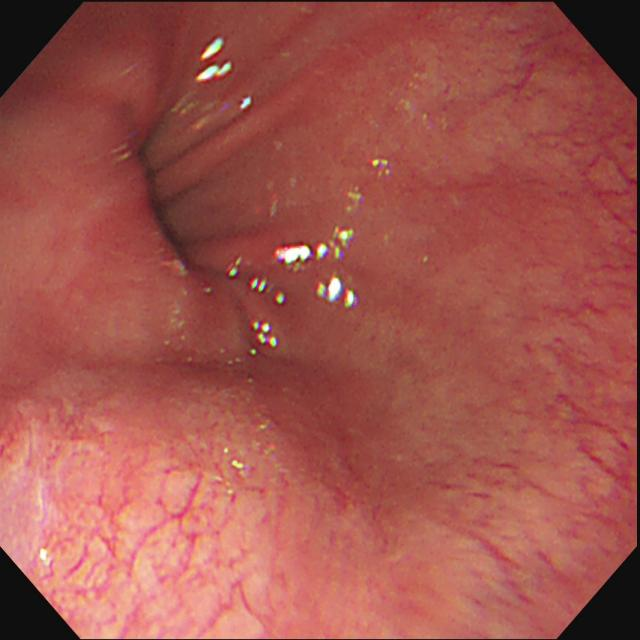U: (273, 226, 356, 272), (195, 35, 234, 83), (316, 275, 360, 311), (248, 278, 288, 305), (251, 319, 279, 350), (226, 256, 244, 280), (239, 96, 256, 115)
